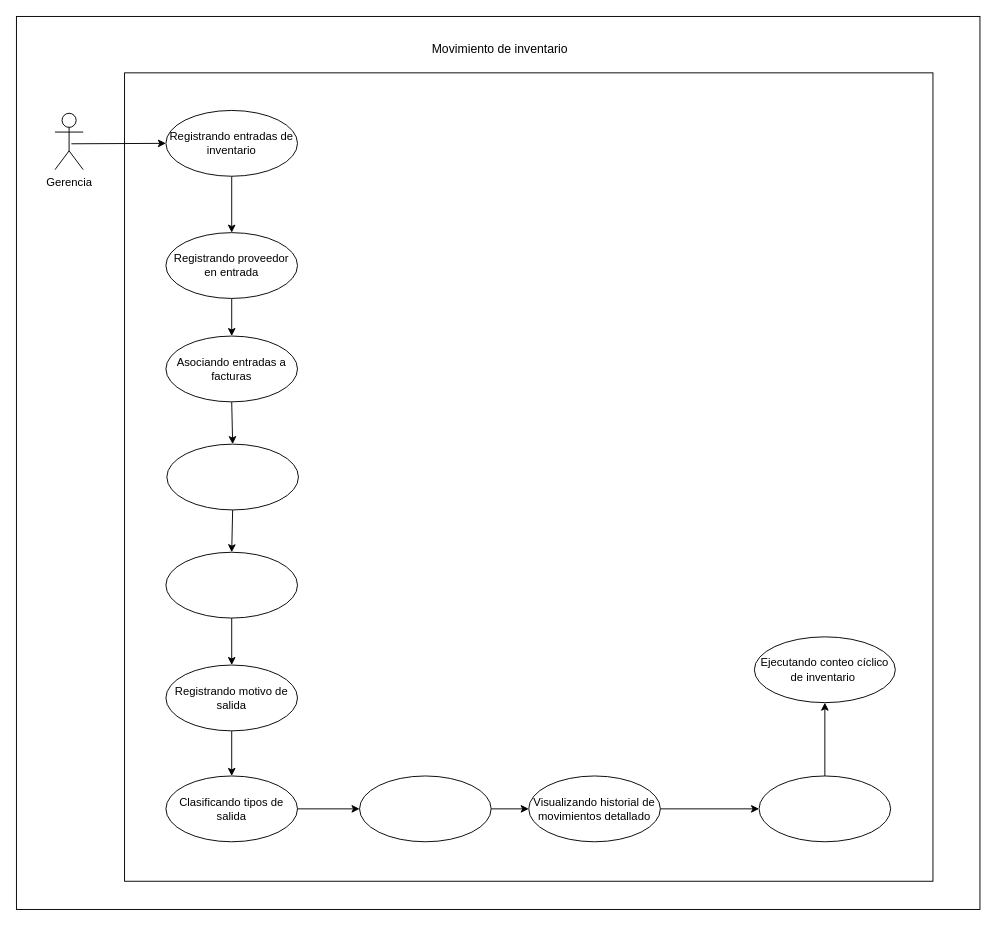
The diagram is 996 pixels wide and 926 high, and some of its shapes have lost their labels. The shapes that lost their labels are listed below. From the top down, each one's centre as x and y in pixels, then its label:
At (232,476): "Registrando mediante código de barras".
At (231,584): "Registrando salidas de inventario".
At (425,808): "Trazando responsable de movimiento".
At (824,808): "Detectando diferencias de inventario".
